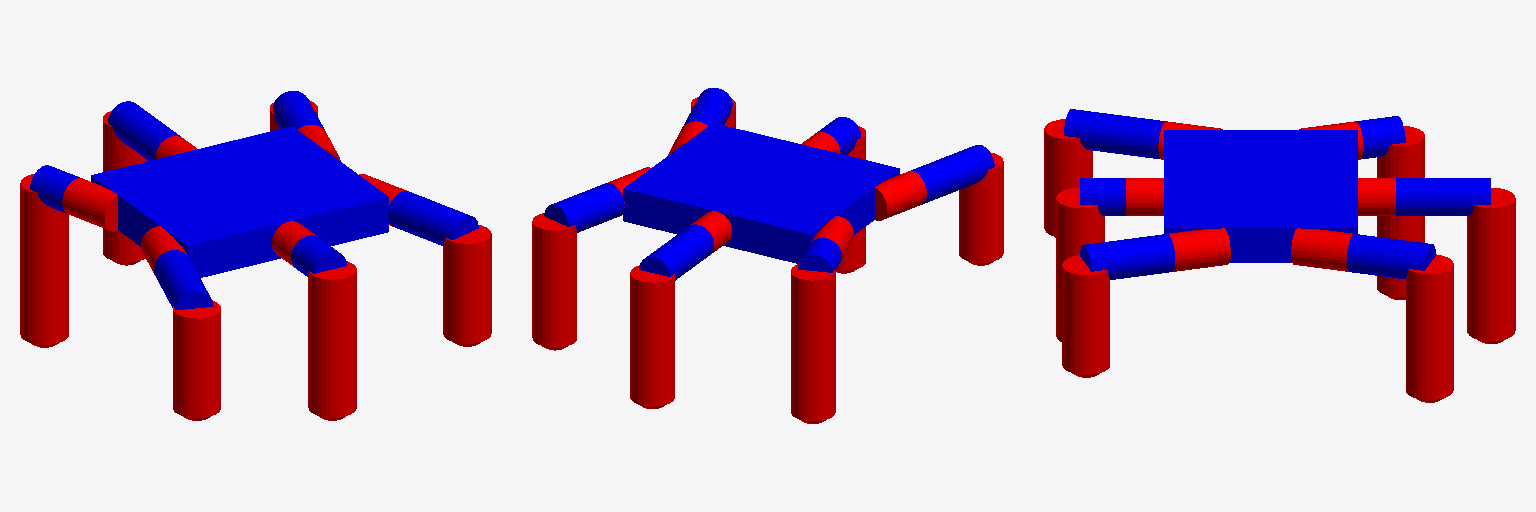
--- Facts derived from the render (not from the file) ---
The picture shows the robot from 3 angles, left to right: view 1: azimuth 30°, elevation 25°; view 2: azimuth 150°, elevation 25°; view 3: azimuth 270°, elevation 25°; orthographic projection.
Robot: pexod — 19 links, 18 joints (18 revolute); root link base_link; default pose: all joints at 0.
Visible links, largest first — view 1: base_link, leg_4_3, leg_0_3, leg_3_3, leg_5_3, leg_3_2, leg_5_2, leg_1_3, leg_1_2, leg_0_1, leg_4_2, leg_2_2 (+5 smaller); view 2: base_link, leg_0_3, leg_1_3, leg_2_3, leg_5_3, leg_5_2, leg_2_2, leg_1_2, leg_5_1, leg_3_2, leg_0_2, leg_4_3 (+3 smaller); view 3: base_link, leg_1_3, leg_2_3, leg_3_3, leg_0_3, leg_5_2, leg_1_2, leg_3_2, leg_5_3, leg_4_3, leg_2_2, leg_2_1 (+5 smaller).
Boxes of the visible links, x1=… form: base_link: x1=91, y1=126, x2=388, y2=277; leg_4_3: x1=308, y1=261, x2=356, y2=420; leg_0_3: x1=20, y1=174, x2=68, y2=347; leg_3_3: x1=443, y1=225, x2=491, y2=346; leg_5_3: x1=173, y1=300, x2=220, y2=420; leg_3_2: x1=388, y1=191, x2=478, y2=245; leg_5_2: x1=154, y1=250, x2=213, y2=309; leg_1_3: x1=103, y1=111, x2=147, y2=265; leg_1_2: x1=108, y1=101, x2=180, y2=160; leg_0_1: x1=62, y1=178, x2=117, y2=231; leg_4_2: x1=291, y1=235, x2=346, y2=276; leg_2_2: x1=273, y1=91, x2=324, y2=129; base_link: x1=623, y1=123, x2=899, y2=263; leg_0_3: x1=791, y1=264, x2=835, y2=423; leg_1_3: x1=630, y1=265, x2=674, y2=408; leg_2_3: x1=532, y1=213, x2=576, y2=350; leg_5_3: x1=959, y1=152, x2=1003, y2=265; leg_5_2: x1=911, y1=145, x2=994, y2=204; leg_2_2: x1=544, y1=183, x2=624, y2=232; leg_1_2: x1=639, y1=224, x2=713, y2=280; leg_5_1: x1=875, y1=171, x2=926, y2=220; leg_3_2: x1=682, y1=88, x2=732, y2=127; leg_0_2: x1=798, y1=238, x2=841, y2=272; leg_4_3: x1=836, y1=126, x2=865, y2=273; base_link: x1=1164, y1=130, x2=1357, y2=262; leg_1_3: x1=1467, y1=188, x2=1515, y2=343; leg_2_3: x1=1406, y1=254, x2=1453, y2=402; leg_3_3: x1=1062, y1=255, x2=1109, y2=377; leg_0_3: x1=1377, y1=126, x2=1424, y2=299; leg_5_2: x1=1064, y1=109, x2=1165, y2=158; leg_1_2: x1=1396, y1=178, x2=1490, y2=215; leg_3_2: x1=1080, y1=234, x2=1174, y2=279; leg_5_3: x1=1044, y1=119, x2=1092, y2=237; leg_4_3: x1=1056, y1=188, x2=1104, y2=341; leg_2_2: x1=1346, y1=234, x2=1435, y2=278; leg_2_1: x1=1291, y1=228, x2=1352, y2=271.
Size in the robot's own frame: 0.3825 by 0.4873 by 0.2053 metres.
Geometry: primitives only (box / cylinder / sphere), no mesh files.

The robot description file, URDF, robot "pexod":
<?xml version="1.0" ?>
<!-- =================================================================================== -->
<!-- |    This document was autogenerated by xacro from pexod.xacro                    | -->
<!-- |    EDITING THIS FILE BY HAND IS NOT RECOMMENDED                                 | -->
<!-- =================================================================================== -->
<robot name="pexod" xmlns:xacro="http://www.ros.org/wiki/xacro">
  <!-- <xacro:include filename="$(find pexod_description)/urdf/pexod_control.xacro" /> -->
  <!-- MATERIALS -->
  <material name="Blue">
    <color rgba="0 0 1 1"/>
  </material>
  <material name="Red">
    <color rgba="1 0 0 1"/>
  </material>
  <material name="Green">
    <color rgba="0 1 0 1"/>
  </material>
  <material name="Yellow">
    <color rgba="1 1 0 1"/>
  </material>
  <material name="LightGrey">
    <color rgba="0.6 0.6 0.6 1.0"/>
  </material>
  <!-- END OF MATERIALS -->
  <!-- XACRO MACROS FOR VISUALS AND COLLISIONS -->
  <!-- END OF XACRO MACROS -->
  <!-- TORSO -->
  <link name="base_link">
    <visual>
      <origin rpy="0 0 0" xyz="0 0 0"/>
      <geometry>
        <box size="0.24 0.2 0.04"/>
      </geometry>
      <material name="Blue"/>
    </visual>
    <collision>
      <origin rpy="0 0 0" xyz="0 0 0"/>
      <geometry>
        <box size="0.24 0.2 0.04"/>
      </geometry>
    </collision>
    <inertial>
      <!-- CENTER OF MASS -->
      <origin rpy="0 0 0" xyz="0 0 0"/>
      <mass value="1.031"/>
      <!-- box inertia: 1/12*m(y^2+z^2), ... -->
      <inertia ixx="0.00357413333333" ixy="0" ixz="0" iyy="0.00508626666667" iyz="0" izz="0.00838546666667"/>
    </inertial>
  </link>
  <!-- XACRO MACRO FOR LEGS LINKS/JOINTS -->
  <!-- END OF LEG LINKS/JOINTS -->
  <joint name="body_leg_2" type="revolute">
    <parent link="base_link"/>
    <child link="leg_2_1"/>
    <limit effort="30.0" lower="-1.57079632679" upper="1.57079632679" velocity="7.0"/>
    <origin rpy="0 0 -0.3" xyz="0.11 0.04 0"/>
    <!-- <xacro:if value="${index == 5 or index == 4 or index == 3}">
                <axis xyz="0 0 1"/>
            </xacro:if>
            <xacro:if value="${index == 2 or index == 1 or index == 0}"> -->
    <axis xyz="0 0 1"/>
    <!-- </xacro:if> -->
    <dynamics damping="0.0"/>
  </joint>
  <link name="leg_2_1">
    <visual>
      <origin rpy="1.57079632679 0 0" xyz="0.01 0.03 0"/>
      <geometry>
        <cylinder length="0.06" radius="0.02"/>
      </geometry>
      <material name="Red"/>
    </visual>
    <collision>
      <origin rpy="1.57079632679 0 0" xyz="0.01 0.03 0"/>
      <geometry>
        <box size="0.02 0.02 0.06"/>
      </geometry>
    </collision>
    <inertial>
      <!-- CENTER OF MASS -->
      <origin rpy="1.57079632679 0 0" xyz="0.01 0.03 0"/>
      <mass value="0.02"/>
      <!-- box inertia: 1/12*m(y^2+z^2), ... -->
      <inertia ixx="6.66666666667e-06" ixy="0" ixz="0" iyy="6.66666666667e-06" iyz="0" izz="1.33333333333e-06"/>
    </inertial>
  </link>
  <joint name="leg_2_1_2" type="revolute">
    <parent link="leg_2_1"/>
    <child link="leg_2_2"/>
    <limit effort="30.0" lower="-0.78539816339" upper="0.78539816339" velocity="7.0"/>
    <origin rpy="0 0 0" xyz="0 0.06 0"/>
    <axis xyz="1 0 0"/>
    <dynamics damping="0.0"/>
  </joint>
  <link name="leg_2_2">
    <visual>
      <origin rpy="1.57079632679 0 0" xyz="0.01 0.0422961273506 0"/>
      <geometry>
        <cylinder length="0.0845922547012" radius="0.02"/>
      </geometry>
      <material name="Blue"/>
    </visual>
    <collision>
      <origin rpy="1.57079632679 0 0" xyz="0.01 0.0422961273506 0"/>
      <geometry>
        <box size="0.02 0.02 0.0845922547012"/>
      </geometry>
    </collision>
    <inertial>
      <!-- CENTER OF MASS -->
      <origin rpy="1.57079632679 0 0" xyz="0.01 0.0422961273506 0"/>
      <mass value="0.184"/>
      <!-- box inertia: 1/12*m(y^2+z^2), ... -->
      <inertia ixx="0.00011585635985" ixy="0" ixz="0" iyy="0.00011585635985" iyz="0" izz="1.22666666667e-05"/>
    </inertial>
  </link>
  <joint name="leg_2_2_3" type="revolute">
    <parent link="leg_2_2"/>
    <child link="leg_2_3"/>
    <limit effort="30.0" lower="-0.78539816339" upper="0.78539816339" velocity="7.0"/>
    <origin rpy="-1.57079632679 0 0" xyz="0 0.0845922547012 0"/>
    <axis xyz="-1 0 0"/>
    <dynamics damping="0.0"/>
  </joint>
  <link name="leg_2_3">
    <visual>
      <origin rpy="1.57079632679 0 0" xyz="0.0125 0.0717550126075 0"/>
      <geometry>
        <cylinder length="0.143510025215" radius="0.025"/>
      </geometry>
      <material name="Red"/>
    </visual>
    <visual>
      <origin rpy="1.57079632679 0 0" xyz="0.0125 0.131010025215 0"/>
      <geometry>
        <sphere radius="0.025"/>
      </geometry>
      <material name="Red"/>
    </visual>
    <collision>
      <origin rpy="1.57079632679 0 0" xyz="0.0125 0.0717550126075 0"/>
      <geometry>
        <box size="0.025 0.025 0.143510025215"/>
      </geometry>
    </collision>
    <collision>
      <origin rpy="1.57079632679 0 0" xyz="0.0125 0.131010025215 0"/>
      <geometry>
        <sphere radius="0.025"/>
      </geometry>
      <material name="Red"/>
    </collision>
    <inertial>
      <!-- CENTER OF MASS -->
      <origin rpy="1.57079632679 0 0" xyz="0.0125 0.0717550126075 0"/>
      <mass value="0.04"/>
      <!-- box inertia: 1/12*m(y^2+z^2), ... -->
      <inertia ixx="7.07337577907e-05" ixy="0" ixz="0" iyy="7.07337577907e-05" iyz="0" izz="4.16666666667e-06"/>
    </inertial>
  </link>
  <joint name="body_leg_3" type="revolute">
    <parent link="base_link"/>
    <child link="leg_3_1"/>
    <limit effort="30.0" lower="-1.57079632679" upper="1.57079632679" velocity="7.0"/>
    <origin rpy="0 0 0.3" xyz="0.11 -0.04 0"/>
    <!-- <xacro:if value="${index == 5 or index == 4 or index == 3}">
                <axis xyz="0 0 1"/>
            </xacro:if>
            <xacro:if value="${index == 2 or index == 1 or index == 0}"> -->
    <axis xyz="0 0 1"/>
    <!-- </xacro:if> -->
    <dynamics damping="0.0"/>
  </joint>
  <link name="leg_3_1">
    <visual>
      <origin rpy="1.57079632679 0 0" xyz="0.01 -0.03 0"/>
      <geometry>
        <cylinder length="0.06" radius="0.02"/>
      </geometry>
      <material name="Red"/>
    </visual>
    <collision>
      <origin rpy="1.57079632679 0 0" xyz="0.01 -0.03 0"/>
      <geometry>
        <box size="0.02 0.02 0.06"/>
      </geometry>
    </collision>
    <inertial>
      <!-- CENTER OF MASS -->
      <origin rpy="1.57079632679 0 0" xyz="0.01 -0.03 0"/>
      <mass value="0.02"/>
      <!-- box inertia: 1/12*m(y^2+z^2), ... -->
      <inertia ixx="6.66666666667e-06" ixy="0" ixz="0" iyy="6.66666666667e-06" iyz="0" izz="1.33333333333e-06"/>
    </inertial>
  </link>
  <joint name="leg_3_1_2" type="revolute">
    <parent link="leg_3_1"/>
    <child link="leg_3_2"/>
    <limit effort="30.0" lower="-0.78539816339" upper="0.78539816339" velocity="7.0"/>
    <origin rpy="0 0 0" xyz="0 -0.06 0"/>
    <axis xyz="-1 0 0"/>
    <dynamics damping="0.0"/>
  </joint>
  <link name="leg_3_2">
    <visual>
      <origin rpy="1.57079632679 0 0" xyz="0.01 -0.0455095160951 0"/>
      <geometry>
        <cylinder length="0.0910190321902" radius="0.02"/>
      </geometry>
      <material name="Blue"/>
    </visual>
    <collision>
      <origin rpy="1.57079632679 0 0" xyz="0.01 -0.0455095160951 0"/>
      <geometry>
        <box size="0.02 0.02 0.0910190321902"/>
      </geometry>
    </collision>
    <inertial>
      <!-- CENTER OF MASS -->
      <origin rpy="1.57079632679 0 0" xyz="0.01 -0.0455095160951 0"/>
      <mass value="0.184"/>
      <!-- box inertia: 1/12*m(y^2+z^2), ... -->
      <inertia ixx="0.00013316178472" ixy="0" ixz="0" iyy="0.00013316178472" iyz="0" izz="1.22666666667e-05"/>
    </inertial>
  </link>
  <joint name="leg_3_2_3" type="revolute">
    <parent link="leg_3_2"/>
    <child link="leg_3_3"/>
    <limit effort="30.0" lower="-0.78539816339" upper="0.78539816339" velocity="7.0"/>
    <origin rpy="1.57079632679 0 0" xyz="0 -0.0910190321902 0"/>
    <axis xyz="1 0 0"/>
    <dynamics damping="0.0"/>
  </joint>
  <link name="leg_3_3">
    <visual>
      <origin rpy="1.57079632679 0 0" xyz="0.0125 -0.056997868388 0"/>
      <geometry>
        <cylinder length="0.113995736776" radius="0.025"/>
      </geometry>
      <material name="Red"/>
    </visual>
    <visual>
      <origin rpy="1.57079632679 0 0" xyz="0.0125 -0.101495736776 0"/>
      <geometry>
        <sphere radius="0.025"/>
      </geometry>
      <material name="Red"/>
    </visual>
    <collision>
      <origin rpy="1.57079632679 0 0" xyz="0.0125 -0.056997868388 0"/>
      <geometry>
        <box size="0.025 0.025 0.113995736776"/>
      </geometry>
    </collision>
    <collision>
      <origin rpy="1.57079632679 0 0" xyz="0.0125 -0.101495736776 0"/>
      <geometry>
        <sphere radius="0.025"/>
      </geometry>
      <material name="Red"/>
    </collision>
    <inertial>
      <!-- CENTER OF MASS -->
      <origin rpy="1.57079632679 0 0" xyz="0.0125 -0.056997868388 0"/>
      <mass value="0.04"/>
      <!-- box inertia: 1/12*m(y^2+z^2), ... -->
      <inertia ixx="4.54000933437e-05" ixy="0" ixz="0" iyy="4.54000933437e-05" iyz="0" izz="4.16666666667e-06"/>
    </inertial>
  </link>
  <joint name="body_leg_0" type="revolute">
    <parent link="base_link"/>
    <child link="leg_0_1"/>
    <limit effort="30.0" lower="-1.57079632679" upper="1.57079632679" velocity="7.0"/>
    <origin rpy="0 0 0.3" xyz="-0.13 0.04 0"/>
    <!-- <xacro:if value="${index == 5 or index == 4 or index == 3}">
                <axis xyz="0 0 1"/>
            </xacro:if>
            <xacro:if value="${index == 2 or index == 1 or index == 0}"> -->
    <axis xyz="0 0 1"/>
    <!-- </xacro:if> -->
    <dynamics damping="0.0"/>
  </joint>
  <link name="leg_0_1">
    <visual>
      <origin rpy="1.57079632679 0 0" xyz="0.01 0.03 0"/>
      <geometry>
        <cylinder length="0.06" radius="0.02"/>
      </geometry>
      <material name="Red"/>
    </visual>
    <collision>
      <origin rpy="1.57079632679 0 0" xyz="0.01 0.03 0"/>
      <geometry>
        <box size="0.02 0.02 0.06"/>
      </geometry>
    </collision>
    <inertial>
      <!-- CENTER OF MASS -->
      <origin rpy="1.57079632679 0 0" xyz="0.01 0.03 0"/>
      <mass value="0.02"/>
      <!-- box inertia: 1/12*m(y^2+z^2), ... -->
      <inertia ixx="6.66666666667e-06" ixy="0" ixz="0" iyy="6.66666666667e-06" iyz="0" izz="1.33333333333e-06"/>
    </inertial>
  </link>
  <joint name="leg_0_1_2" type="revolute">
    <parent link="leg_0_1"/>
    <child link="leg_0_2"/>
    <limit effort="30.0" lower="-0.78539816339" upper="0.78539816339" velocity="7.0"/>
    <origin rpy="0 0 0" xyz="0 0.06 0"/>
    <axis xyz="1 0 0"/>
    <dynamics damping="0.0"/>
  </joint>
  <link name="leg_0_2">
    <visual>
      <origin rpy="1.57079632679 0 0" xyz="0.01 0.0228527341263 0"/>
      <geometry>
        <cylinder length="0.0457054682526" radius="0.02"/>
      </geometry>
      <material name="Blue"/>
    </visual>
    <collision>
      <origin rpy="1.57079632679 0 0" xyz="0.01 0.0228527341263 0"/>
      <geometry>
        <box size="0.02 0.02 0.0457054682526"/>
      </geometry>
    </collision>
    <inertial>
      <!-- CENTER OF MASS -->
      <origin rpy="1.57079632679 0 0" xyz="0.01 0.0228527341263 0"/>
      <mass value="0.184"/>
      <!-- box inertia: 1/12*m(y^2+z^2), ... -->
      <inertia ixx="3.81645106989e-05" ixy="0" ixz="0" iyy="3.81645106989e-05" iyz="0" izz="1.22666666667e-05"/>
    </inertial>
  </link>
  <joint name="leg_0_2_3" type="revolute">
    <parent link="leg_0_2"/>
    <child link="leg_0_3"/>
    <limit effort="30.0" lower="-0.78539816339" upper="0.78539816339" velocity="7.0"/>
    <origin rpy="-1.57079632679 0 0" xyz="0 0.0457054682526 0"/>
    <axis xyz="-1 0 0"/>
    <dynamics damping="0.0"/>
  </joint>
  <link name="leg_0_3">
    <visual>
      <origin rpy="1.57079632679 0 0" xyz="0.0125 0.0863922188075 0"/>
      <geometry>
        <cylinder length="0.172784437615" radius="0.025"/>
      </geometry>
      <material name="Red"/>
    </visual>
    <visual>
      <origin rpy="1.57079632679 0 0" xyz="0.0125 0.160284437615 0"/>
      <geometry>
        <sphere radius="0.025"/>
      </geometry>
      <material name="Red"/>
    </visual>
    <collision>
      <origin rpy="1.57079632679 0 0" xyz="0.0125 0.0863922188075 0"/>
      <geometry>
        <box size="0.025 0.025 0.172784437615"/>
      </geometry>
    </collision>
    <collision>
      <origin rpy="1.57079632679 0 0" xyz="0.0125 0.160284437615 0"/>
      <geometry>
        <sphere radius="0.025"/>
      </geometry>
      <material name="Red"/>
    </collision>
    <inertial>
      <!-- CENTER OF MASS -->
      <origin rpy="1.57079632679 0 0" xyz="0.0125 0.0863922188075 0"/>
      <mass value="0.04"/>
      <!-- box inertia: 1/12*m(y^2+z^2), ... -->
      <inertia ixx="0.000101598206273" ixy="0" ixz="0" iyy="0.000101598206273" iyz="0" izz="4.16666666667e-06"/>
    </inertial>
  </link>
  <joint name="body_leg_5" type="revolute">
    <parent link="base_link"/>
    <child link="leg_5_1"/>
    <limit effort="30.0" lower="-1.57079632679" upper="1.57079632679" velocity="7.0"/>
    <origin rpy="0 0 -0.3" xyz="-0.13 -0.04 0"/>
    <!-- <xacro:if value="${index == 5 or index == 4 or index == 3}">
                <axis xyz="0 0 1"/>
            </xacro:if>
            <xacro:if value="${index == 2 or index == 1 or index == 0}"> -->
    <axis xyz="0 0 1"/>
    <!-- </xacro:if> -->
    <dynamics damping="0.0"/>
  </joint>
  <link name="leg_5_1">
    <visual>
      <origin rpy="1.57079632679 0 0" xyz="0.01 -0.03 0"/>
      <geometry>
        <cylinder length="0.06" radius="0.02"/>
      </geometry>
      <material name="Red"/>
    </visual>
    <collision>
      <origin rpy="1.57079632679 0 0" xyz="0.01 -0.03 0"/>
      <geometry>
        <box size="0.02 0.02 0.06"/>
      </geometry>
    </collision>
    <inertial>
      <!-- CENTER OF MASS -->
      <origin rpy="1.57079632679 0 0" xyz="0.01 -0.03 0"/>
      <mass value="0.02"/>
      <!-- box inertia: 1/12*m(y^2+z^2), ... -->
      <inertia ixx="6.66666666667e-06" ixy="0" ixz="0" iyy="6.66666666667e-06" iyz="0" izz="1.33333333333e-06"/>
    </inertial>
  </link>
  <joint name="leg_5_1_2" type="revolute">
    <parent link="leg_5_1"/>
    <child link="leg_5_2"/>
    <limit effort="30.0" lower="-0.78539816339" upper="0.78539816339" velocity="7.0"/>
    <origin rpy="0 0 0" xyz="0 -0.06 0"/>
    <axis xyz="-1 0 0"/>
    <dynamics damping="0.0"/>
  </joint>
  <link name="leg_5_2">
    <visual>
      <origin rpy="1.57079632679 0 0" xyz="0.01 -0.051310043145 0"/>
      <geometry>
        <cylinder length="0.10262008629" radius="0.02"/>
      </geometry>
      <material name="Blue"/>
    </visual>
    <collision>
      <origin rpy="1.57079632679 0 0" xyz="0.01 -0.051310043145 0"/>
      <geometry>
        <box size="0.02 0.02 0.10262008629"/>
      </geometry>
    </collision>
    <inertial>
      <!-- CENTER OF MASS -->
      <origin rpy="1.57079632679 0 0" xyz="0.01 -0.051310043145 0"/>
      <mass value="0.184"/>
      <!-- box inertia: 1/12*m(y^2+z^2), ... -->
      <inertia ixx="0.000167606859023" ixy="0" ixz="0" iyy="0.000167606859023" iyz="0" izz="1.22666666667e-05"/>
    </inertial>
  </link>
  <joint name="leg_5_2_3" type="revolute">
    <parent link="leg_5_2"/>
    <child link="leg_5_3"/>
    <limit effort="30.0" lower="-0.78539816339" upper="0.78539816339" velocity="7.0"/>
    <origin rpy="1.57079632679 0 0" xyz="0 -0.10262008629 0"/>
    <axis xyz="1 0 0"/>
    <dynamics damping="0.0"/>
  </joint>
  <link name="leg_5_3">
    <visual>
      <origin rpy="1.57079632679 0 0" xyz="0.0125 -0.0567333170815 0"/>
      <geometry>
        <cylinder length="0.113466634163" radius="0.025"/>
      </geometry>
      <material name="Red"/>
    </visual>
    <visual>
      <origin rpy="1.57079632679 0 0" xyz="0.0125 -0.100966634163 0"/>
      <geometry>
        <sphere radius="0.025"/>
      </geometry>
      <material name="Red"/>
    </visual>
    <collision>
      <origin rpy="1.57079632679 0 0" xyz="0.0125 -0.0567333170815 0"/>
      <geometry>
        <box size="0.025 0.025 0.113466634163"/>
      </geometry>
    </collision>
    <collision>
      <origin rpy="1.57079632679 0 0" xyz="0.0125 -0.100966634163 0"/>
      <geometry>
        <sphere radius="0.025"/>
      </geometry>
      <material name="Red"/>
    </collision>
    <inertial>
      <!-- CENTER OF MASS -->
      <origin rpy="1.57079632679 0 0" xyz="0.0125 -0.0567333170815 0"/>
      <mass value="0.04"/>
      <!-- box inertia: 1/12*m(y^2+z^2), ... -->
      <inertia ixx="4.49989235609e-05" ixy="0" ixz="0" iyy="4.49989235609e-05" iyz="0" izz="4.16666666667e-06"/>
    </inertial>
  </link>
  <joint name="body_leg_1" type="revolute">
    <parent link="base_link"/>
    <child link="leg_1_1"/>
    <limit effort="30.0" lower="-1.57079632679" upper="1.57079632679" velocity="7.0"/>
    <origin rpy="0 0 0" xyz="-0.01 0.08 0"/>
    <!-- <xacro:if value="${index == 5 or index == 4 or index == 3}">
                <axis xyz="0 0 1"/>
            </xacro:if>
            <xacro:if value="${index == 2 or index == 1 or index == 0}"> -->
    <axis xyz="0 0 1"/>
    <!-- </xacro:if> -->
    <dynamics damping="0.0"/>
  </joint>
  <link name="leg_1_1">
    <visual>
      <origin rpy="1.57079632679 0 0" xyz="0.01 0.03 0"/>
      <geometry>
        <cylinder length="0.06" radius="0.02"/>
      </geometry>
      <material name="Red"/>
    </visual>
    <collision>
      <origin rpy="1.57079632679 0 0" xyz="0.01 0.03 0"/>
      <geometry>
        <box size="0.02 0.02 0.06"/>
      </geometry>
    </collision>
    <inertial>
      <!-- CENTER OF MASS -->
      <origin rpy="1.57079632679 0 0" xyz="0.01 0.03 0"/>
      <mass value="0.02"/>
      <!-- box inertia: 1/12*m(y^2+z^2), ... -->
      <inertia ixx="6.66666666667e-06" ixy="0" ixz="0" iyy="6.66666666667e-06" iyz="0" izz="1.33333333333e-06"/>
    </inertial>
  </link>
  <joint name="leg_1_1_2" type="revolute">
    <parent link="leg_1_1"/>
    <child link="leg_1_2"/>
    <limit effort="30.0" lower="-0.78539816339" upper="0.78539816339" velocity="7.0"/>
    <origin rpy="0 0 0" xyz="0 0.06 0"/>
    <axis xyz="1 0 0"/>
    <dynamics damping="0.0"/>
  </joint>
  <link name="leg_1_2">
    <visual>
      <origin rpy="1.57079632679 0 0" xyz="0.01 0.0491551290259 0"/>
      <geometry>
        <cylinder length="0.0983102580519" radius="0.02"/>
      </geometry>
      <material name="Blue"/>
    </visual>
    <collision>
      <origin rpy="1.57079632679 0 0" xyz="0.01 0.0491551290259 0"/>
      <geometry>
        <box size="0.02 0.02 0.0983102580519"/>
      </geometry>
    </collision>
    <inertial>
      <!-- CENTER OF MASS -->
      <origin rpy="1.57079632679 0 0" xyz="0.01 0.0491551290259 0"/>
      <mass value="0.184"/>
      <!-- box inertia: 1/12*m(y^2+z^2), ... -->
      <inertia ixx="0.00015432857152" ixy="0" ixz="0" iyy="0.00015432857152" iyz="0" izz="1.22666666667e-05"/>
    </inertial>
  </link>
  <joint name="leg_1_2_3" type="revolute">
    <parent link="leg_1_2"/>
    <child link="leg_1_3"/>
    <limit effort="30.0" lower="-0.78539816339" upper="0.78539816339" velocity="7.0"/>
    <origin rpy="-1.57079632679 0 0" xyz="0 0.0983102580519 0"/>
    <axis xyz="-1 0 0"/>
    <dynamics damping="0.0"/>
  </joint>
  <link name="leg_1_3">
    <visual>
      <origin rpy="1.57079632679 0 0" xyz="0.0125 0.076088271912 0"/>
      <geometry>
        <cylinder length="0.152176543824" radius="0.025"/>
      </geometry>
      <material name="Red"/>
    </visual>
    <visual>
      <origin rpy="1.57079632679 0 0" xyz="0.0125 0.139676543824 0"/>
      <geometry>
        <sphere radius="0.025"/>
      </geometry>
      <material name="Red"/>
    </visual>
    <collision>
      <origin rpy="1.57079632679 0 0" xyz="0.0125 0.076088271912 0"/>
      <geometry>
        <box size="0.025 0.025 0.152176543824"/>
      </geometry>
    </collision>
    <collision>
      <origin rpy="1.57079632679 0 0" xyz="0.0125 0.139676543824 0"/>
      <geometry>
        <sphere radius="0.025"/>
      </geometry>
      <material name="Red"/>
    </collision>
    <inertial>
      <!-- CENTER OF MASS -->
      <origin rpy="1.57079632679 0 0" xyz="0.0125 0.076088271912 0"/>
      <mass value="0.04"/>
      <!-- box inertia: 1/12*m(y^2+z^2), ... -->
      <inertia ixx="7.92756683007e-05" ixy="0" ixz="0" iyy="7.92756683007e-05" iyz="0" izz="4.16666666667e-06"/>
    </inertial>
  </link>
  <joint name="body_leg_4" type="revolute">
    <parent link="base_link"/>
    <child link="leg_4_1"/>
    <limit effort="30.0" lower="-1.57079632679" upper="1.57079632679" velocity="7.0"/>
    <origin rpy="0 0 0" xyz="-0.01 -0.08 0"/>
    <!-- <xacro:if value="${index == 5 or index == 4 or index == 3}">
                <axis xyz="0 0 1"/>
            </xacro:if>
            <xacro:if value="${index == 2 or index == 1 or index == 0}"> -->
    <axis xyz="0 0 1"/>
    <!-- </xacro:if> -->
    <dynamics damping="0.0"/>
  </joint>
  <link name="leg_4_1">
    <visual>
      <origin rpy="1.57079632679 0 0" xyz="0.01 -0.03 0"/>
      <geometry>
        <cylinder length="0.06" radius="0.02"/>
      </geometry>
      <material name="Red"/>
    </visual>
    <collision>
      <origin rpy="1.57079632679 0 0" xyz="0.01 -0.03 0"/>
      <geometry>
        <box size="0.02 0.02 0.06"/>
      </geometry>
    </collision>
    <inertial>
      <!-- CENTER OF MASS -->
      <origin rpy="1.57079632679 0 0" xyz="0.01 -0.03 0"/>
      <mass value="0.02"/>
      <!-- box inertia: 1/12*m(y^2+z^2), ... -->
      <inertia ixx="6.66666666667e-06" ixy="0" ixz="0" iyy="6.66666666667e-06" iyz="0" izz="1.33333333333e-06"/>
    </inertial>
  </link>
  <joint name="leg_4_1_2" type="revolute">
    <parent link="leg_4_1"/>
    <child link="leg_4_2"/>
    <limit effort="30.0" lower="-0.78539816339" upper="0.78539816339" velocity="7.0"/>
    <origin rpy="0 0 0" xyz="0 -0.06 0"/>
    <axis xyz="-1 0 0"/>
    <dynamics damping="0.0"/>
  </joint>
  <link name="leg_4_2">
    <visual>
      <origin rpy="1.57079632679 0 0" xyz="0.01 -0.0233817200056 0"/>
      <geometry>
        <cylinder length="0.0467634400113" radius="0.02"/>
      </geometry>
      <material name="Blue"/>
    </visual>
    <collision>
      <origin rpy="1.57079632679 0 0" xyz="0.01 -0.0233817200056 0"/>
      <geometry>
        <box size="0.02 0.02 0.0467634400113"/>
      </geometry>
    </collision>
    <inertial>
      <!-- CENTER OF MASS -->
      <origin rpy="1.57079632679 0 0" xyz="0.01 -0.0233817200056 0"/>
      <mass value="0.184"/>
      <!-- box inertia: 1/12*m(y^2+z^2), ... -->
      <inertia ixx="3.96645629326e-05" ixy="0" ixz="0" iyy="3.96645629326e-05" iyz="0" izz="1.22666666667e-05"/>
    </inertial>
  </link>
  <joint name="leg_4_2_3" type="revolute">
    <parent link="leg_4_2"/>
    <child link="leg_4_3"/>
    <limit effort="30.0" lower="-0.78539816339" upper="0.78539816339" velocity="7.0"/>
    <origin rpy="1.57079632679 0 0" xyz="0 -0.0467634400113 0"/>
    <axis xyz="1 0 0"/>
    <dynamics damping="0.0"/>
  </joint>
  <link name="leg_4_3">
    <visual>
      <origin rpy="1.57079632679 0 0" xyz="0.0125 -0.0787164611705 0"/>
      <geometry>
        <cylinder length="0.157432922341" radius="0.025"/>
      </geometry>
      <material name="Red"/>
    </visual>
    <visual>
      <origin rpy="1.57079632679 0 0" xyz="0.0125 -0.144932922341 0"/>
      <geometry>
        <sphere radius="0.025"/>
      </geometry>
      <material name="Red"/>
    </visual>
    <collision>
      <origin rpy="1.57079632679 0 0" xyz="0.0125 -0.0787164611705 0"/>
      <geometry>
        <box size="0.025 0.025 0.157432922341"/>
      </geometry>
    </collision>
    <collision>
      <origin rpy="1.57079632679 0 0" xyz="0.0125 -0.144932922341 0"/>
      <geometry>
        <sphere radius="0.025"/>
      </geometry>
      <material name="Red"/>
    </collision>
    <inertial>
      <!-- CENTER OF MASS -->
      <origin rpy="1.57079632679 0 0" xyz="0.0125 -0.0787164611705 0"/>
      <mass value="0.04"/>
      <!-- box inertia: 1/12*m(y^2+z^2), ... -->
      <inertia ixx="8.47004167894e-05" ixy="0" ixz="0" iyy="8.47004167894e-05" iyz="0" izz="4.16666666667e-06"/>
    </inertial>
  </link>
  <!-- END OF LEG LINKS/JOINTS -->
</robot>
